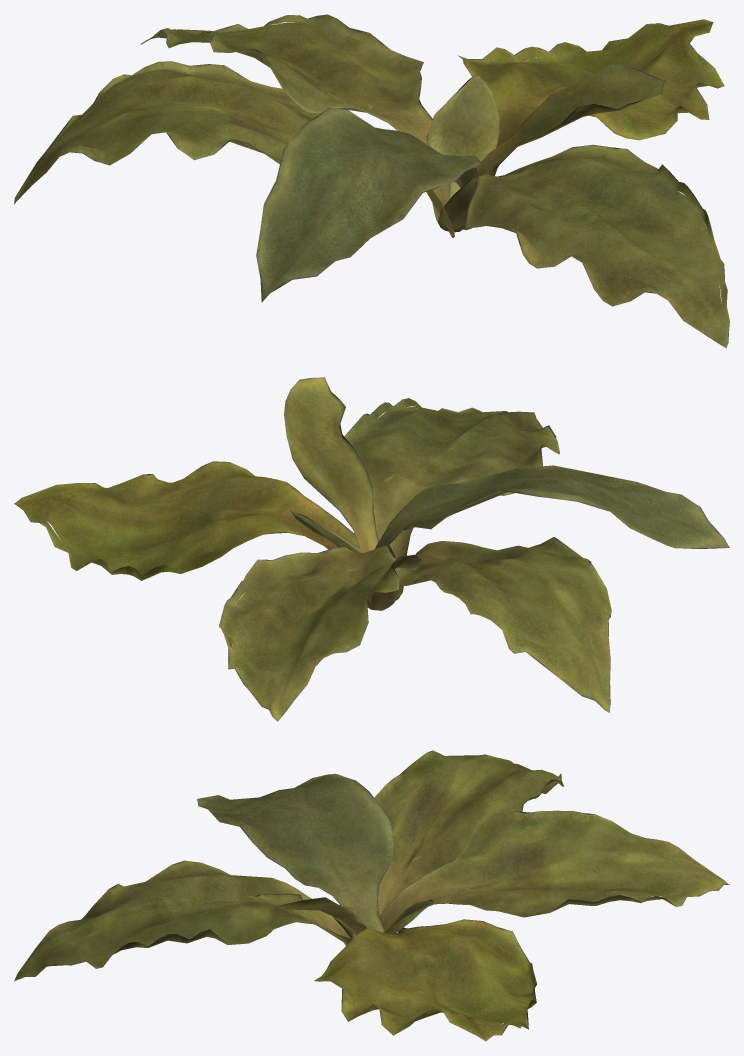
The model's file is crystalline_iceplant_e.gltf.lod.glb.
The picture shows the model from 3 angles, top to bottom: view 1: azimuth 30°, elevation 25°; view 2: azimuth 150°, elevation 25°; view 3: azimuth 270°, elevation 25°; orthographic projection. The views are drawn at different scales.
Visible parts, largest first — view 1: crystalline_iceplant_b_LOD0; view 2: crystalline_iceplant_b_LOD0; view 3: crystalline_iceplant_b_LOD0.
Boxes of the visible parts, bbox=[...] form: crystalline_iceplant_b_LOD0: bbox=[14, 14, 729, 348]; crystalline_iceplant_b_LOD0: bbox=[14, 377, 729, 721]; crystalline_iceplant_b_LOD0: bbox=[14, 750, 729, 1041].
Bounding box in the file's own units: 0.2803 × 0.066 × 0.3064.
Materials: 1 (1 with a texture image).
